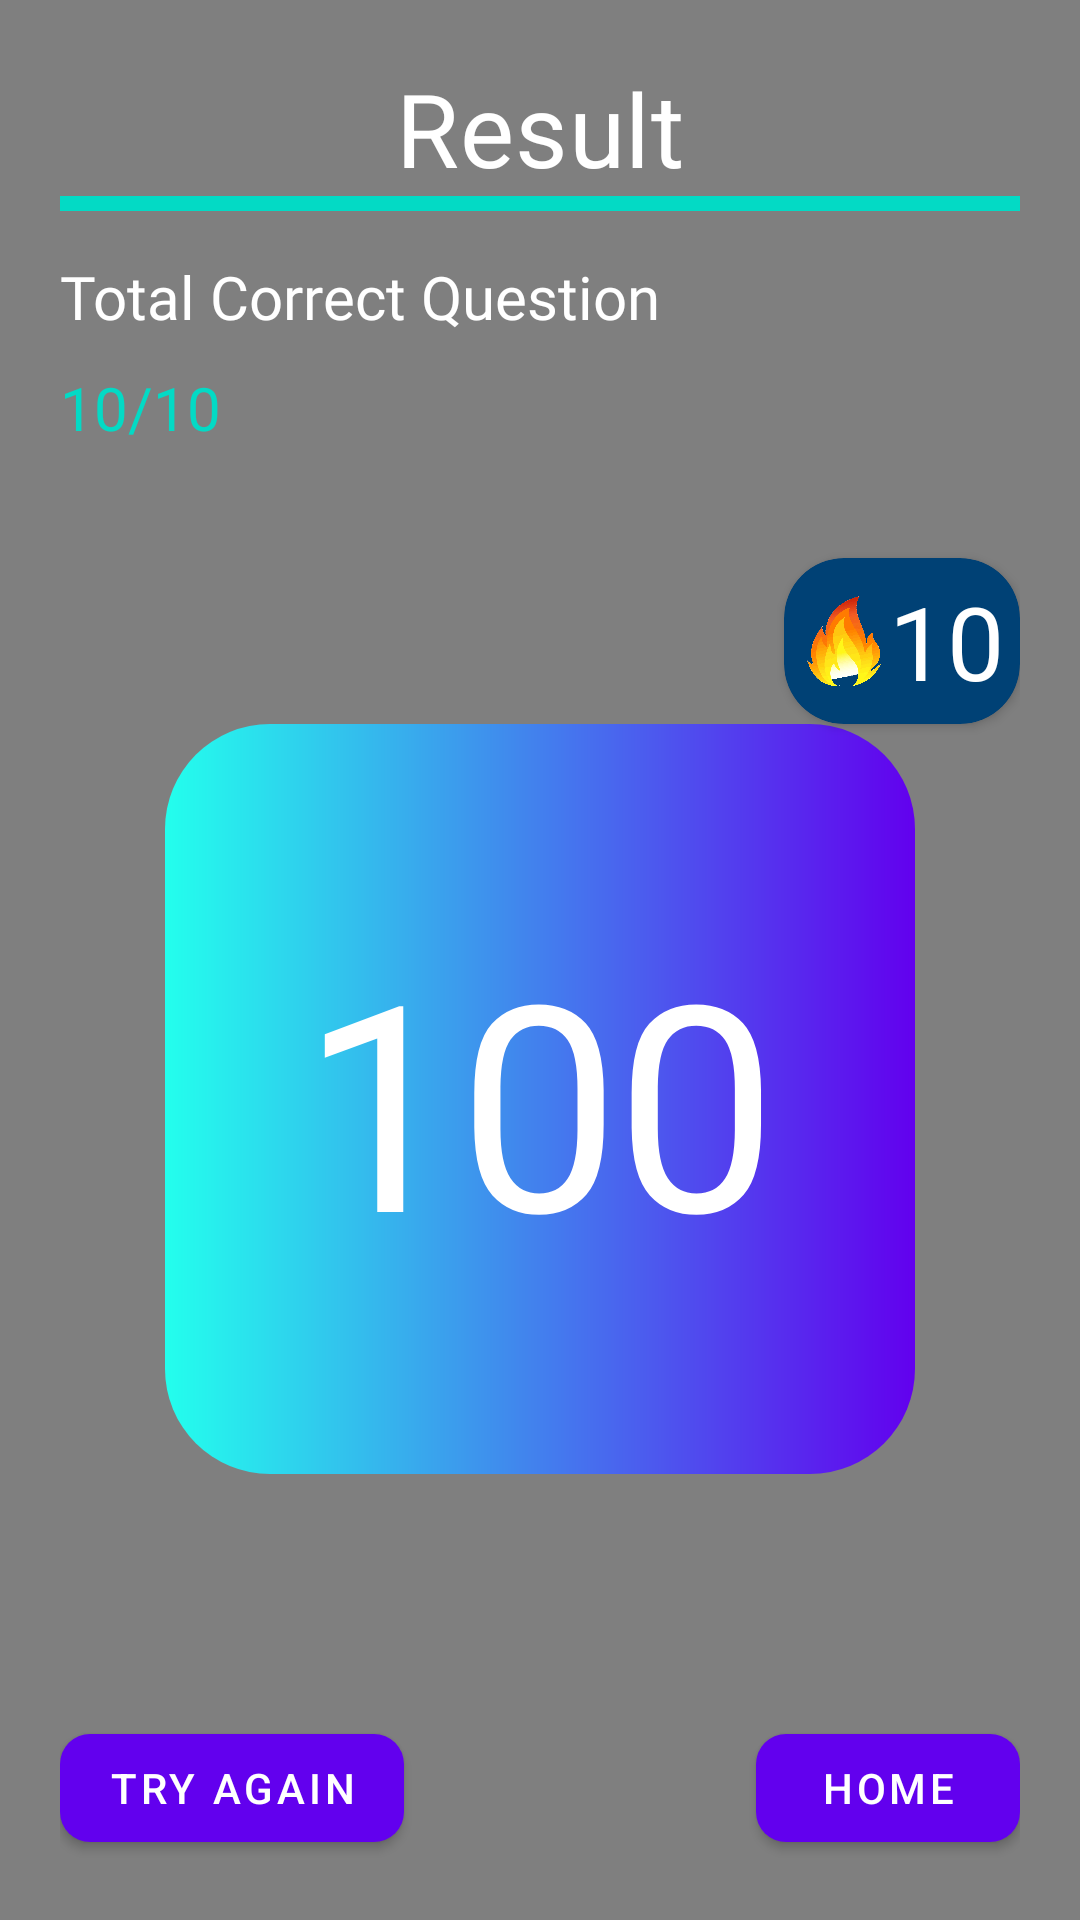

Where to tap for icons on this 1080 x 1920 app screen, as [x,y]:
streak: [844,641]
